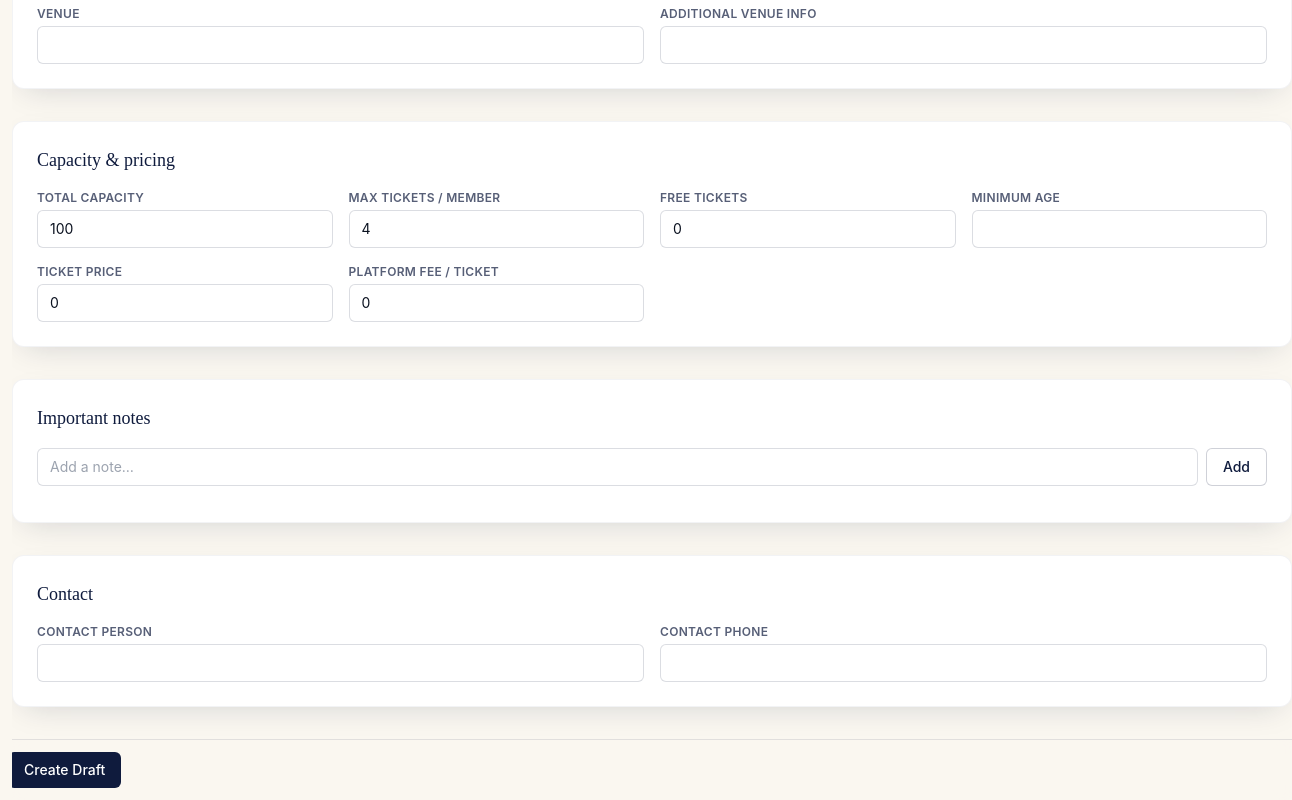
EventForm — important notes › adds and removes notes
(page scrolled)
Type "First note" into the field with placeholder "Add a note…" at (617, 467), box [37,448,1198,486]
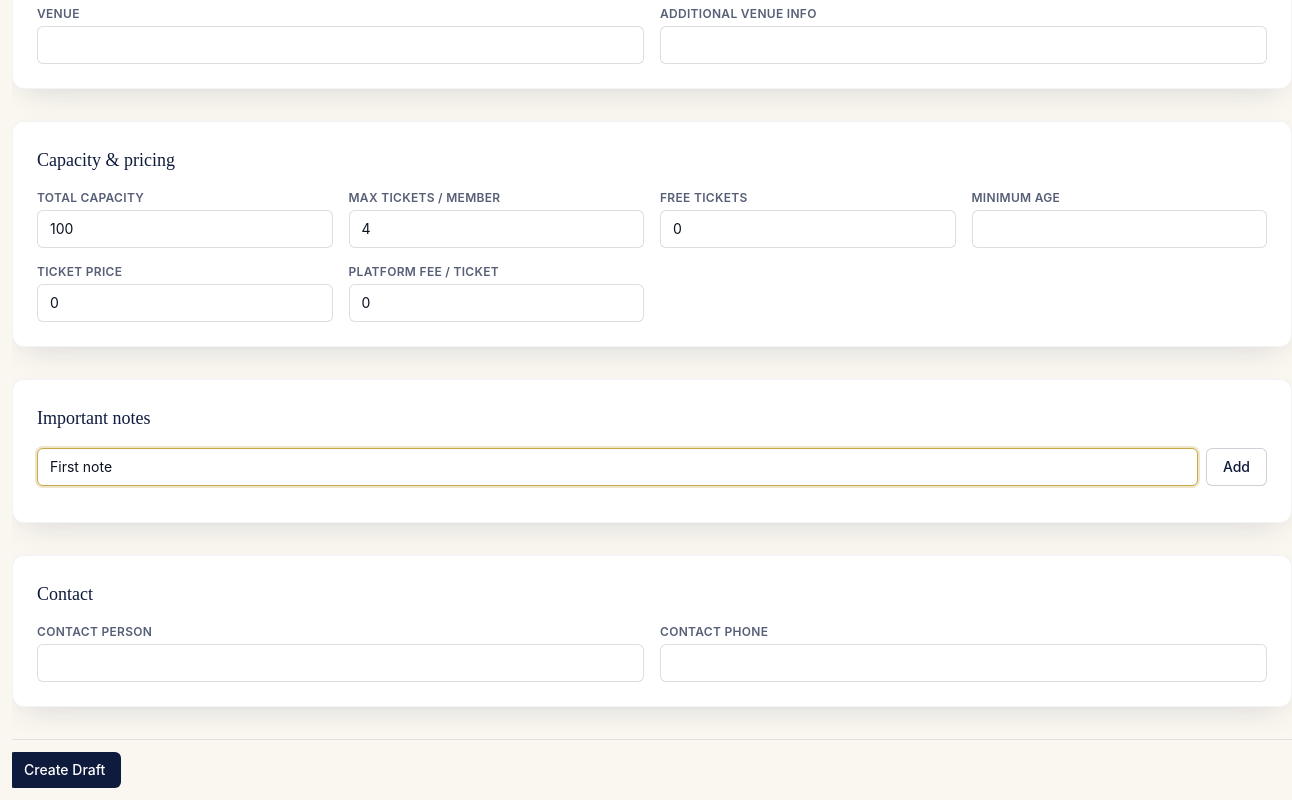
Click the button "Add" at (1236, 467), box [1206,448,1267,486]
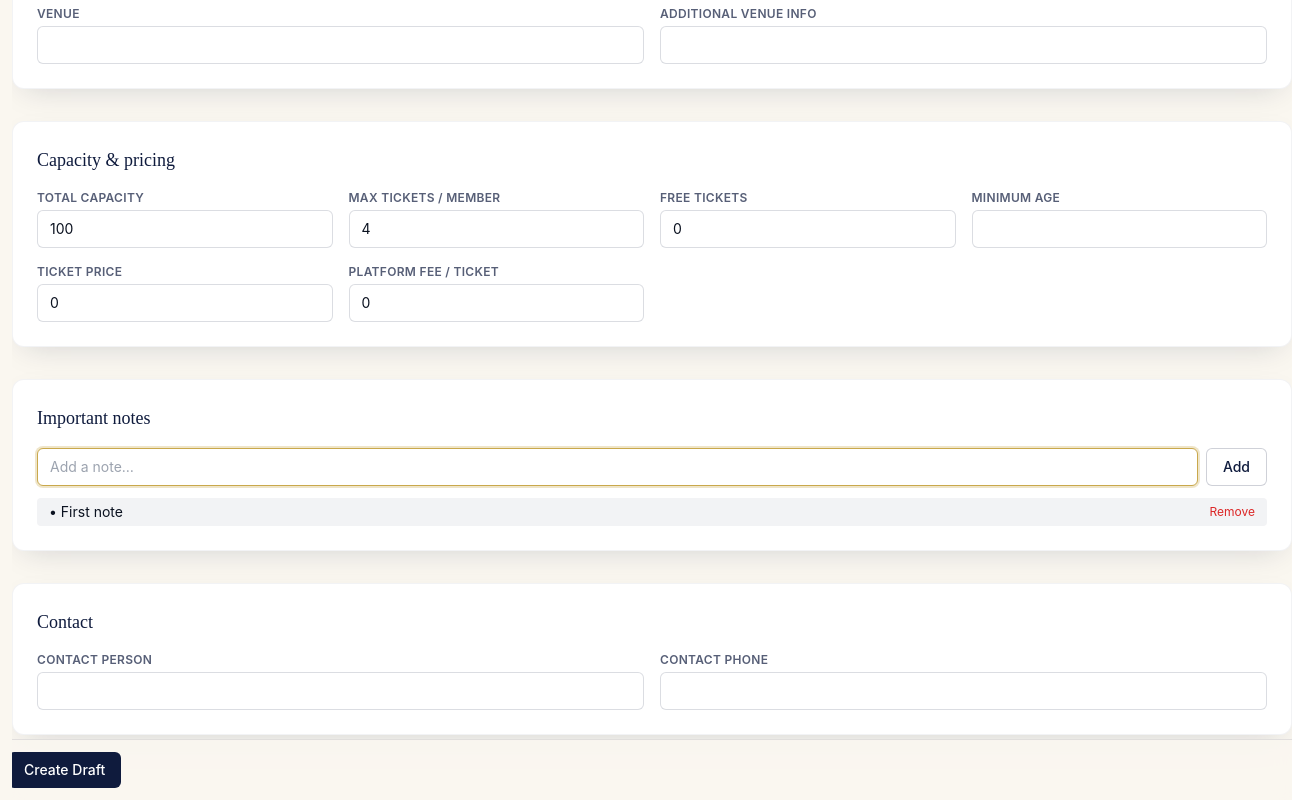
Check: the text "• First note" is shown, box [49,502,123,522]
Type "Second note" into the field with placeholder "Add a note…" at (617, 467), box [37,448,1198,486]
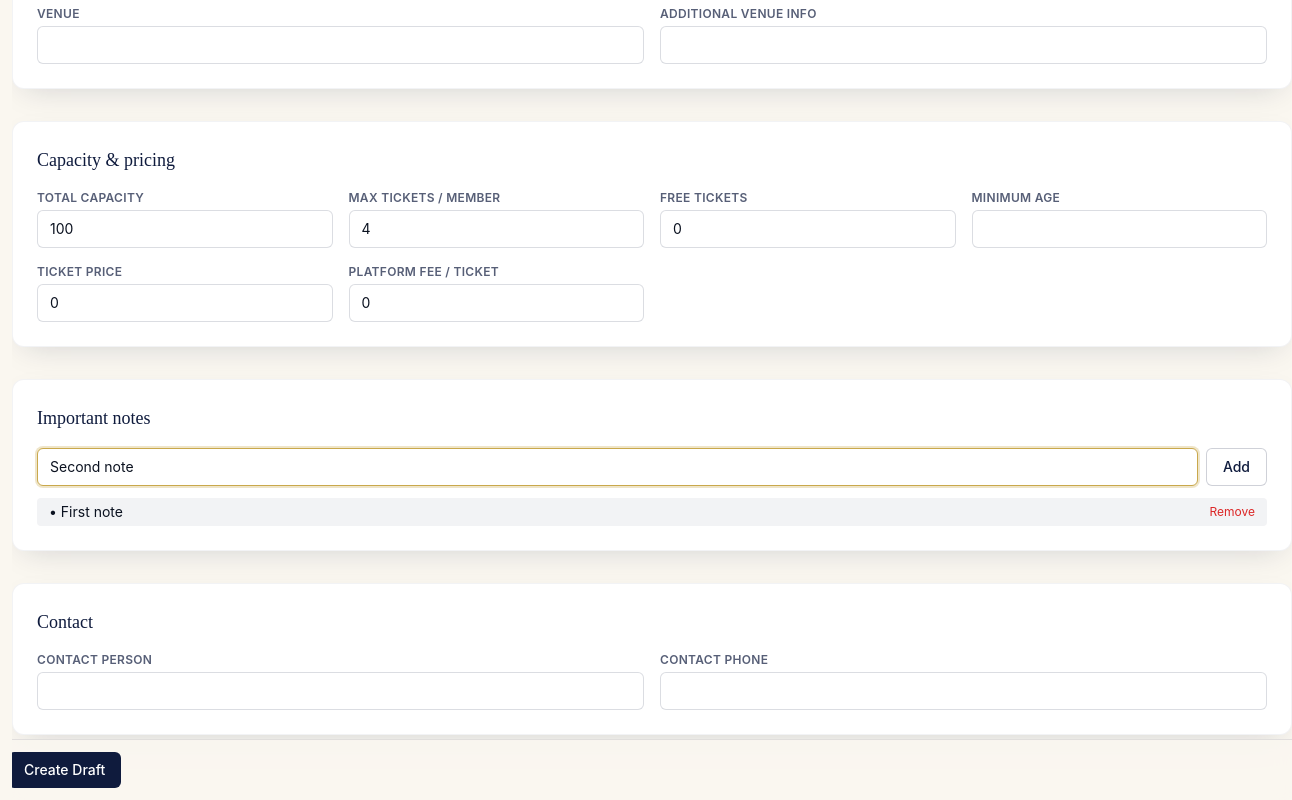
Click the button "Add" at (1236, 467), box [1206,448,1267,486]
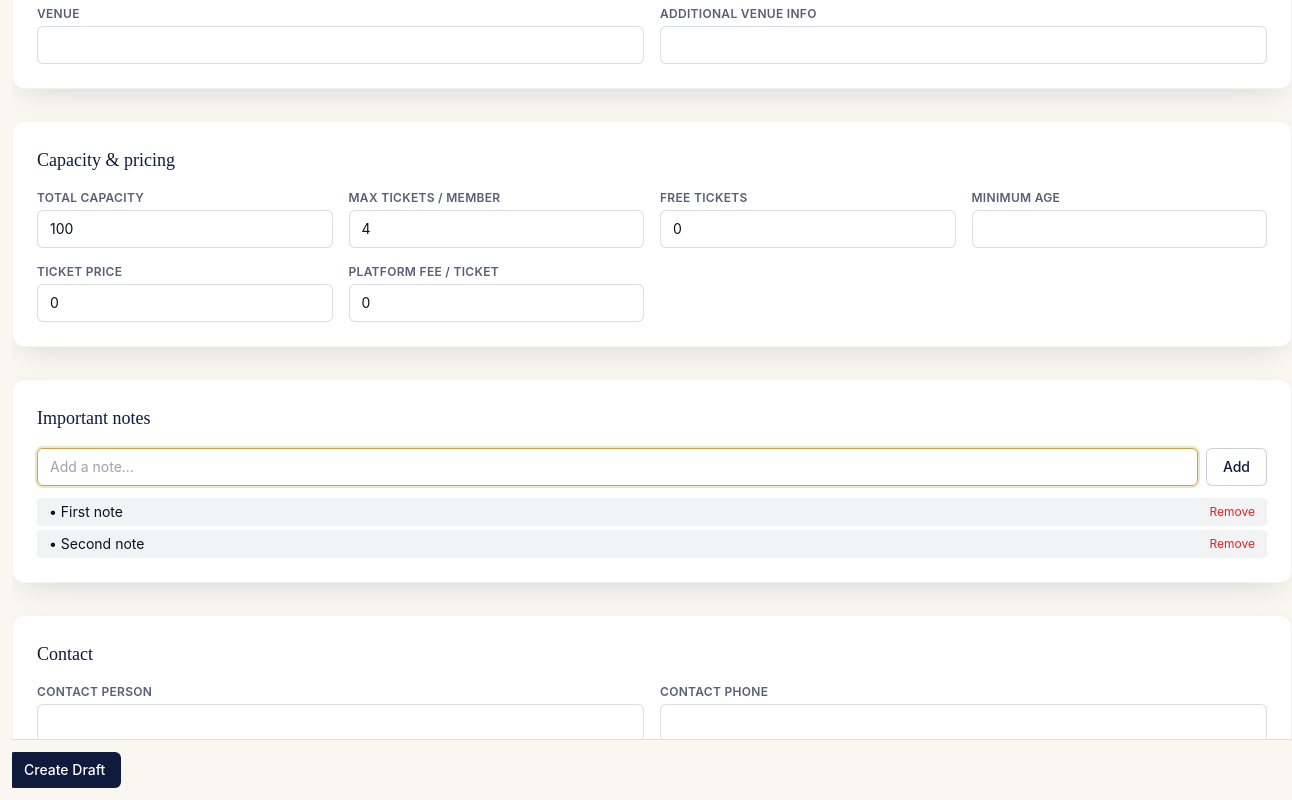
Check: the text "• Second note" is shown, box [49,534,144,554]
Click the button "Remove" in the row of "First note" at (1232, 512), box [1210,504,1255,520]
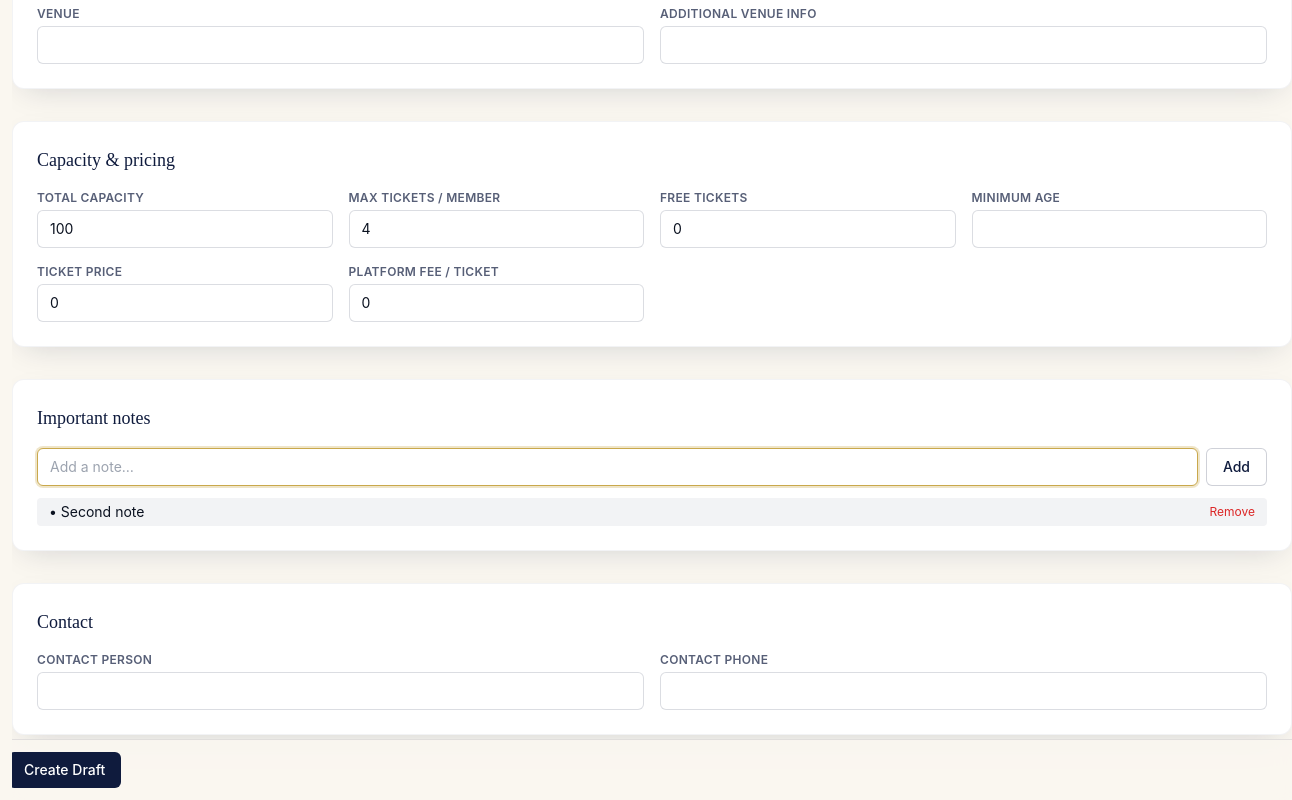
Check: the text "• First note" is gone
Check: the text "• Second note" is shown, box [49,502,144,522]
